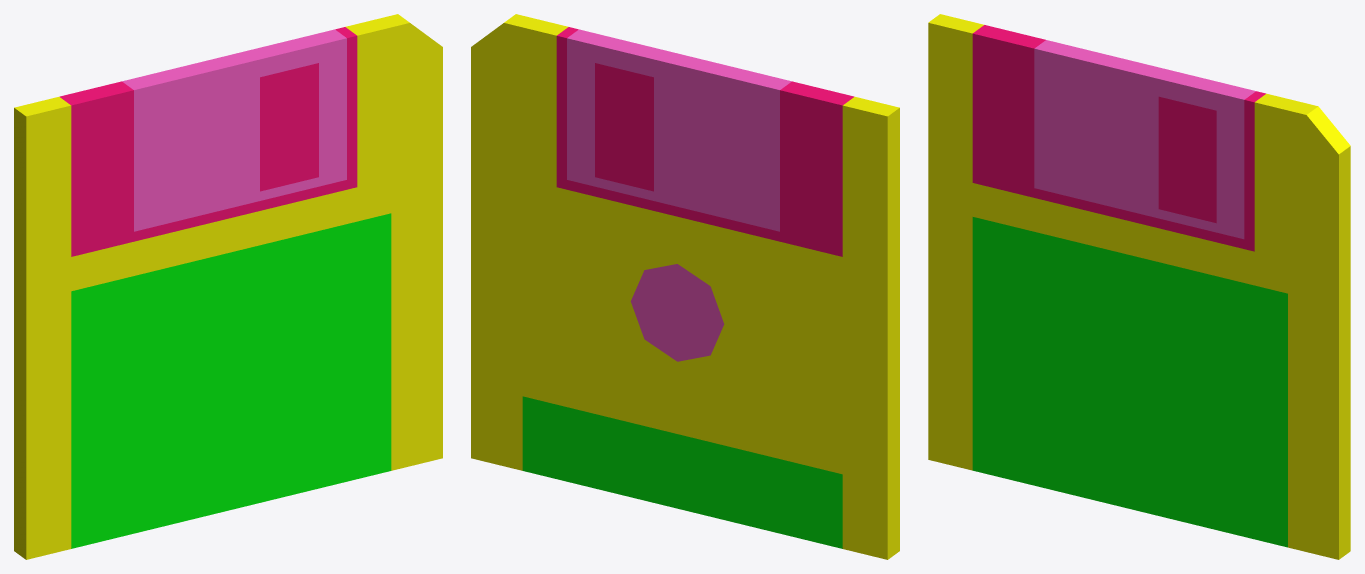
Rendered from floppy_yellowgreen.FBX.
The picture shows the model from 3 angles, left to right: view 1: azimuth 30°, elevation 25°; view 2: azimuth 150°, elevation 25°; view 3: azimuth 330°, elevation 25°; orthographic projection.
Visible parts, largest first — view 1: floppy_yellowgreen; view 2: floppy_yellowgreen; view 3: floppy_yellowgreen.
Boxes of the visible parts, box(x1,y1,x2,y2) form: floppy_yellowgreen: box(14, 14, 442, 559); floppy_yellowgreen: box(471, 14, 899, 559); floppy_yellowgreen: box(928, 14, 1350, 559).
Bounding box in the file's own units: 54.75 × 55.69 × 2.75.
